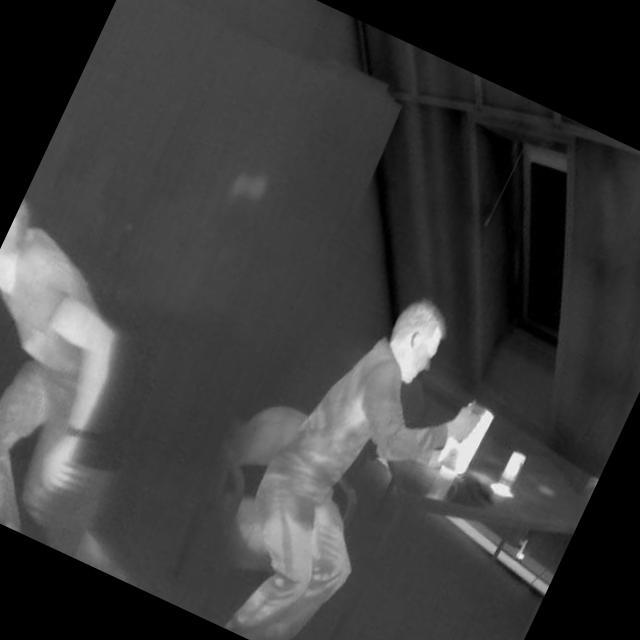person: (180, 254, 505, 640), (0, 191, 173, 542)
